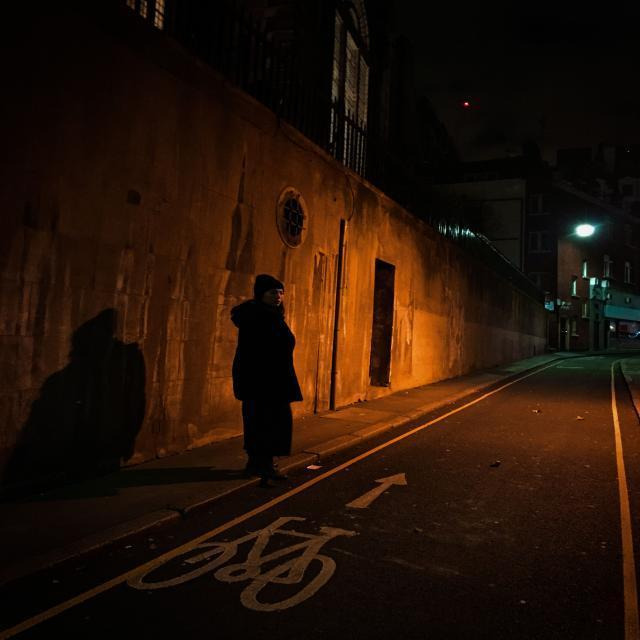on: (560, 210, 612, 282)
